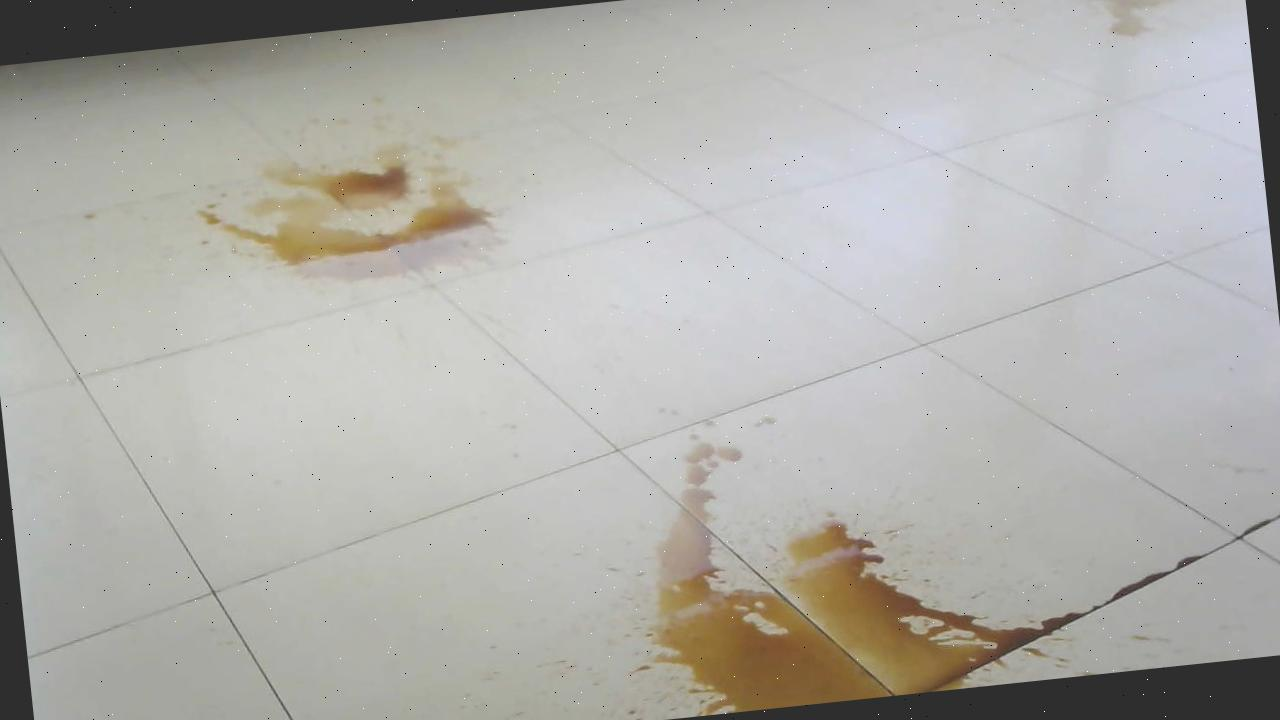dirty_floor: (625, 420, 981, 718), (165, 121, 535, 306)
